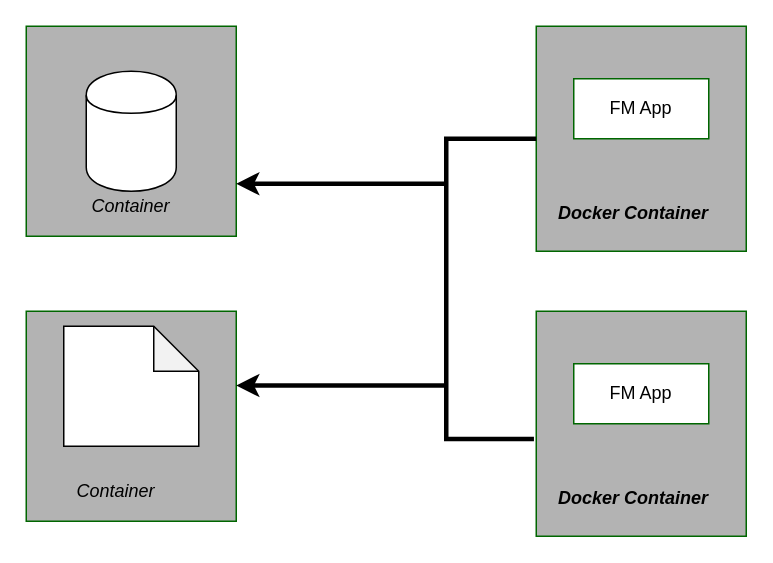
Some shapes in this 773 by 563 pixel diagram are drawn without their labels. Here are the shapes that lost their labels. From the top down, the centre of each, then its label:
point 130,130: FM DB (MYSQL)
point 130,385: FM Cache(Redis)
